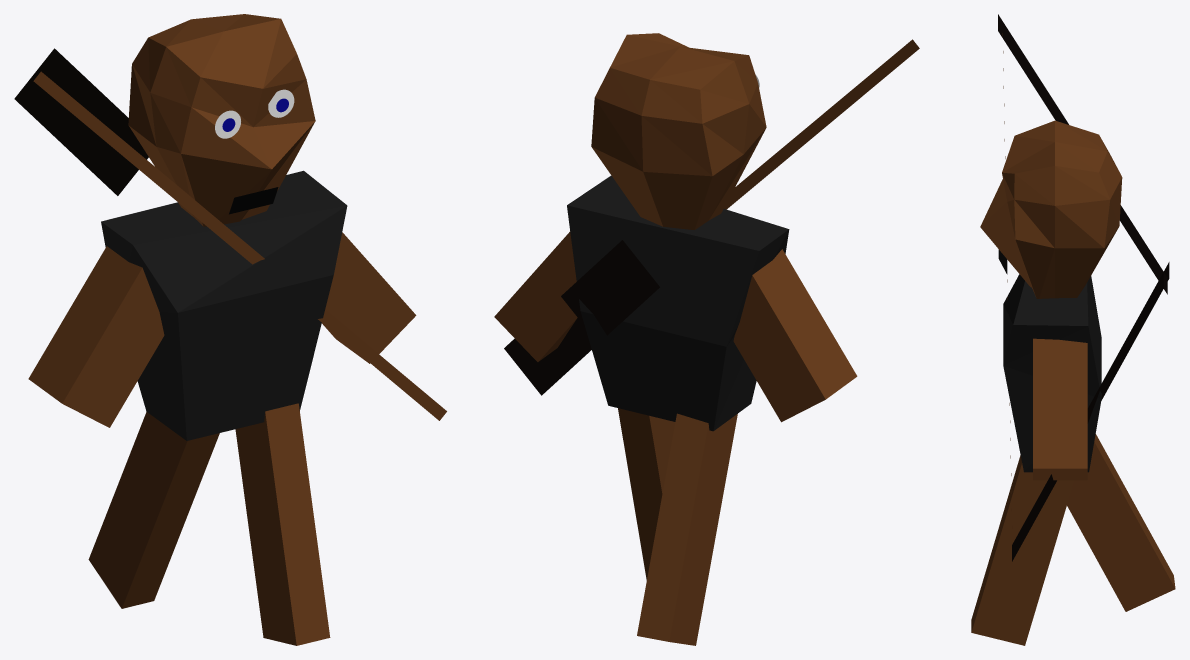
Rendered from archer2.obj.
3 views of the same model, side by side, from view 1: azimuth 30°, elevation 25°; view 2: azimuth 150°, elevation 25°; view 3: azimuth 270°, elevation 25° (orthographic). The views are drawn at different scales.
Parts seen in each view (by area): view 1: Cube.001, Cube, Cube.005, Cube.003, Cube.004, Plane.002_Plane.003, Plane.003_Plane.004, Cube.002, Plane; view 2: Cube.001, Cube, Cube.004, Cube.003, Plane.001_Plane.002, Cube.002, Cube.005, Plane.003_Plane.004; view 3: Cube, Cube.005, Cube.001, Cube.004, Cube.002, Plane.001_Plane.002, Plane.002_Plane.003.
Boxes of the visible parts, <box> form: Cube.001: <box>101,170,347,440</box>; Cube: <box>128,14,315,226</box>; Cube.005: <box>235,403,330,645</box>; Cube.003: <box>28,246,164,427</box>; Cube.004: <box>88,412,219,608</box>; Plane.002_Plane.003: <box>14,48,148,195</box>; Plane.003_Plane.004: <box>33,71,446,420</box>; Cube.002: <box>322,232,416,363</box>; Plane: <box>229,187,278,214</box>; Cube.001: <box>567,175,789,431</box>; Cube: <box>591,33,766,229</box>; Cube.004: <box>637,413,737,645</box>; Cube.003: <box>733,249,857,422</box>; Plane.001_Plane.002: <box>504,240,659,395</box>; Cube.002: <box>494,231,577,361</box>; Cube.005: <box>618,408,675,580</box>; Plane.003_Plane.004: <box>724,39,919,209</box>; Cube: <box>980,120,1122,298</box>; Cube.005: <box>971,455,1074,645</box>; Cube.001: <box>1003,274,1101,472</box>; Cube.004: <box>1067,434,1175,611</box>; Cube.002: <box>1033,338,1087,480</box>; Plane.001_Plane.002: <box>1012,262,1169,561</box>; Plane.002_Plane.003: <box>998,14,1167,294</box>.
Size of the model in its own units: 4.75 by 6.48 by 2.26.
